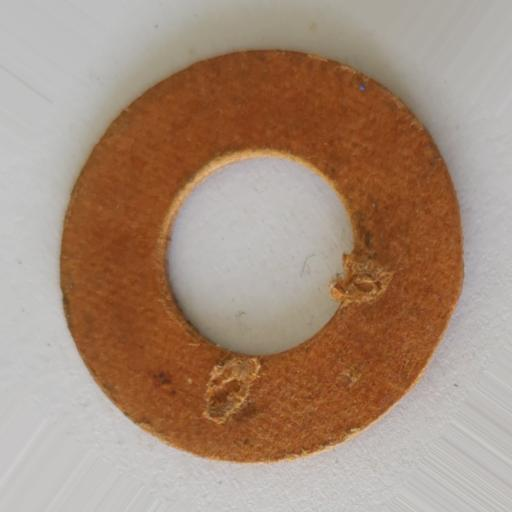defect: (204, 356, 262, 426), (327, 253, 395, 305)
